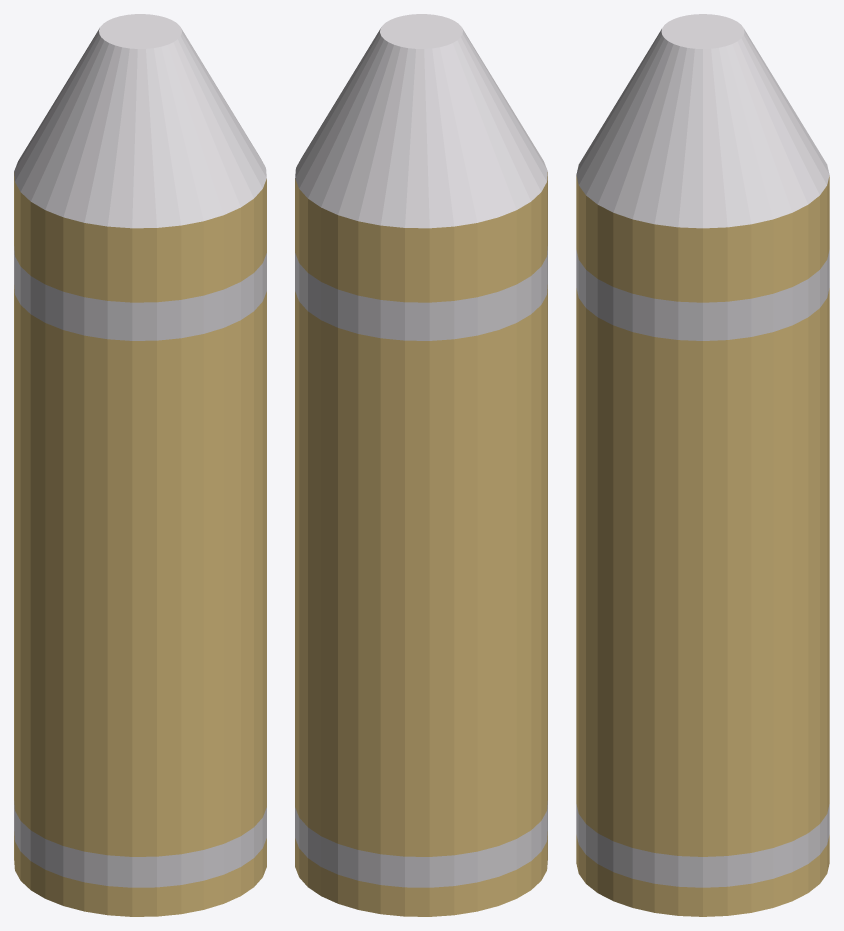
The model's file is crayon white.fbx.
3 renders of one model, left to right at view 1: azimuth 30°, elevation 25°; view 2: azimuth 150°, elevation 25°; view 3: azimuth 270°, elevation 25°, orthographic.
Visible parts, largest first — view 1: Cylinder; view 2: Cylinder; view 3: Cylinder.
Part boxes in pixels (x1,y1,x2,y2): Cylinder: [14, 14, 266, 916]; Cylinder: [295, 14, 547, 916]; Cylinder: [576, 14, 829, 916].
Bounding box in the file's own units: 20 × 72.49 × 20.
